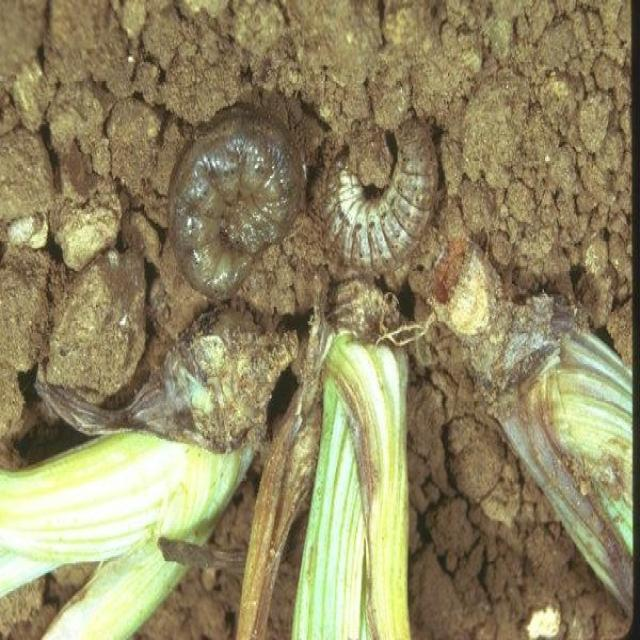black cutworm: (171, 106, 302, 294), (307, 125, 444, 288)
